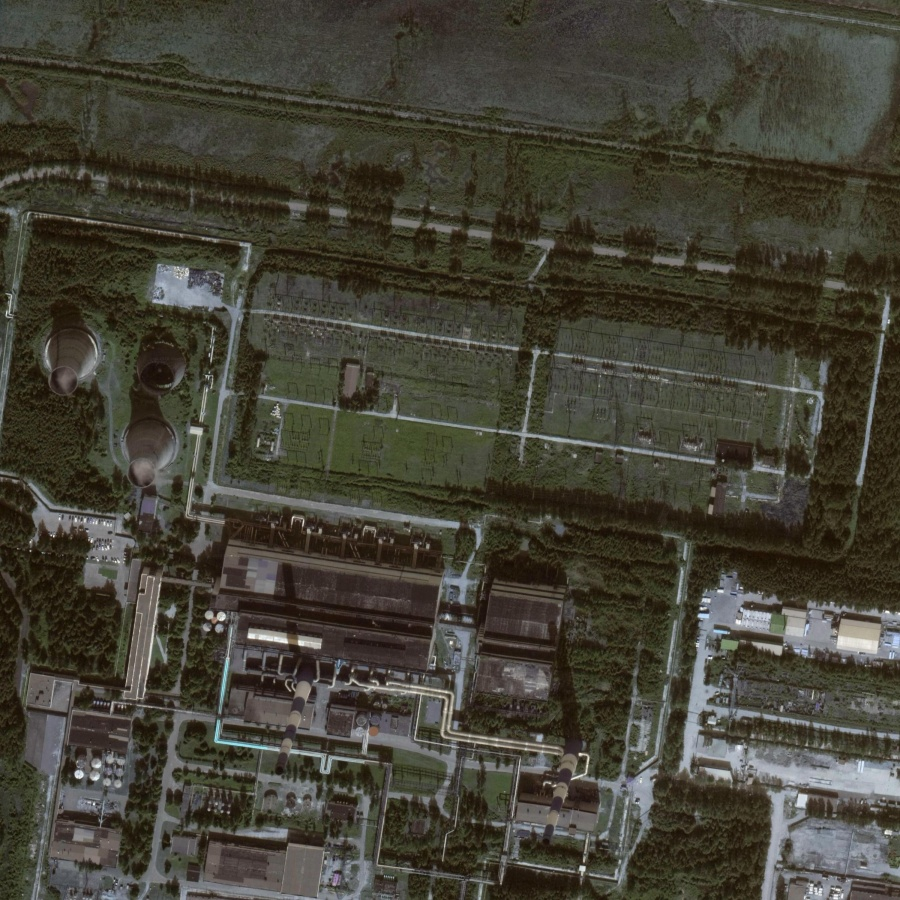PowerPlant: (228, 542, 586, 862), (17, 264, 216, 510)
